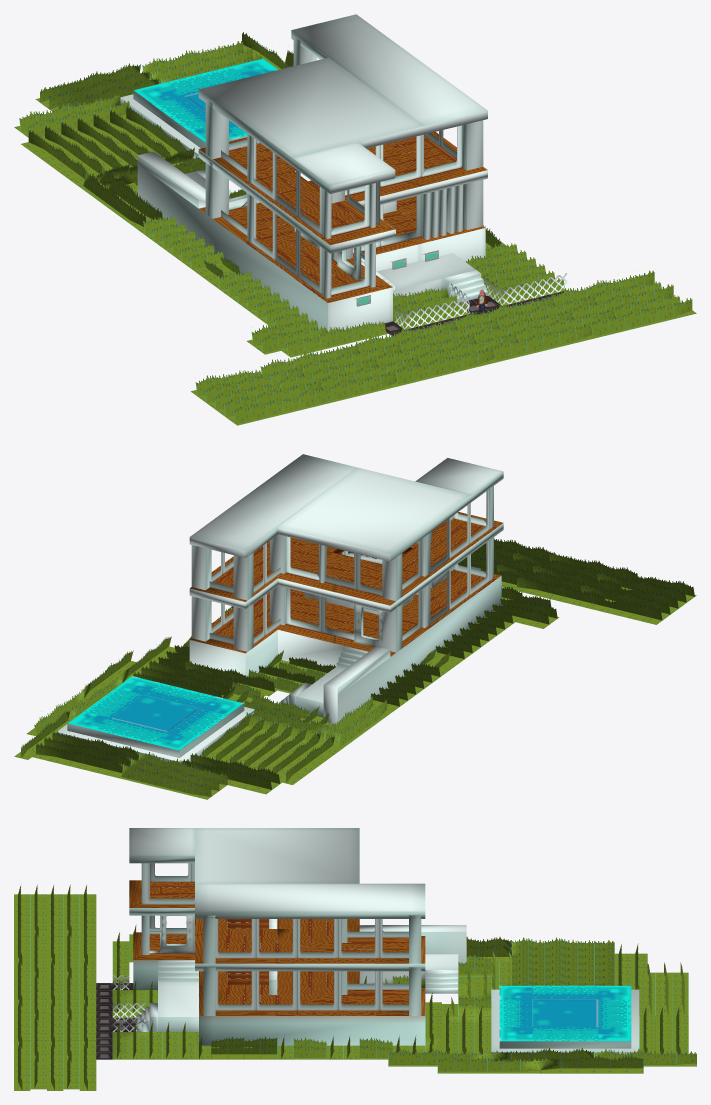
File: ModernHouse.obj
3 renders of one model, top to bottom at view 1: azimuth 30°, elevation 25°; view 2: azimuth 150°, elevation 25°; view 3: azimuth 270°, elevation 25°, orthographic. The views are drawn at different scales.
Parts seen in each view (by area): view 1: Object_13474, Object_16130, Object_18064, Object_7319, Object_9882, Object_14593, Object_15606, Object_8792, Object_6905, Object_9761, Object_12505, Object_17344 (+2 smaller); view 2: Object_13474, Object_16130, Object_7319, Object_8792, Object_9882, Object_18064, Object_9761, Object_15606, Object_6905, Object_15952, Object_14593, Object_15497; view 3: Object_13474, Object_16130, Object_7319, Object_8792, Object_18064, Object_9882, Object_15606, Object_9761, Object_6905, Object_15952, Object_12505, Object_12243 (+3 smaller).
Part boxes in pixels (x1,y1,x2,y2): Object_13474: [137, 14, 567, 331]; Object_16130: [14, 32, 696, 418]; Object_18064: [191, 257, 680, 425]; Object_7319: [96, 147, 526, 357]; Object_9882: [205, 36, 483, 261]; Object_14593: [247, 134, 462, 298]; Object_15606: [246, 201, 484, 302]; Object_8792: [133, 58, 278, 142]; Object_6905: [252, 137, 421, 294]; Object_9761: [120, 90, 247, 161]; Object_12505: [384, 289, 567, 335]; Object_17344: [331, 184, 369, 295]; Object_13474: [189, 454, 503, 724]; Object_16130: [14, 538, 688, 799]; Object_7319: [158, 595, 552, 743]; Object_8792: [67, 676, 243, 750]; Object_9882: [191, 531, 431, 652]; Object_18064: [348, 551, 696, 628]; Object_9761: [56, 704, 254, 762]; Object_15606: [290, 569, 500, 627]; Object_6905: [342, 489, 489, 624]; Object_15952: [278, 646, 367, 717]; Object_14593: [319, 486, 493, 627]; Object_15497: [354, 572, 446, 647]; Object_13474: [112, 828, 466, 1045]; Object_16130: [14, 885, 696, 1090]; Object_7319: [112, 932, 511, 1059]; Object_8792: [499, 985, 631, 1041]; Object_18064: [14, 885, 178, 1089]; Object_9882: [203, 915, 421, 1015]; Object_15606: [133, 932, 277, 1015]; Object_9761: [491, 989, 639, 1054]; Object_6905: [149, 863, 338, 1010]; Object_15952: [359, 954, 458, 993]; Object_12505: [96, 983, 137, 1059]; Object_12243: [228, 919, 277, 994].
Size of the model in its own units: 28.25 by 9 by 41.5.
Materials: 2 (2 with a texture image).
